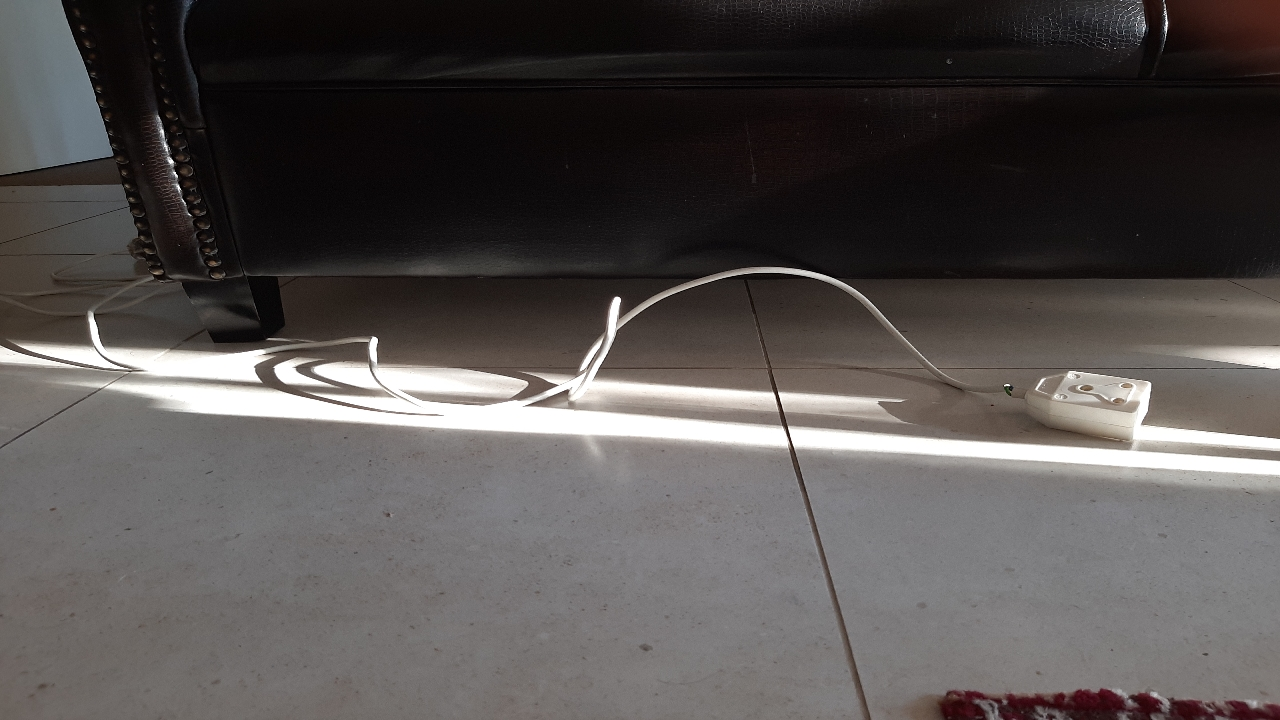cable: (313, 308, 1184, 486), (23, 241, 127, 413)
